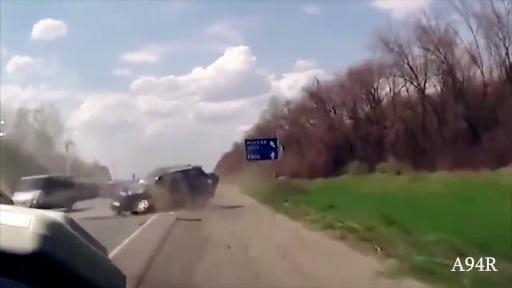Accident: (104, 157, 228, 219)
